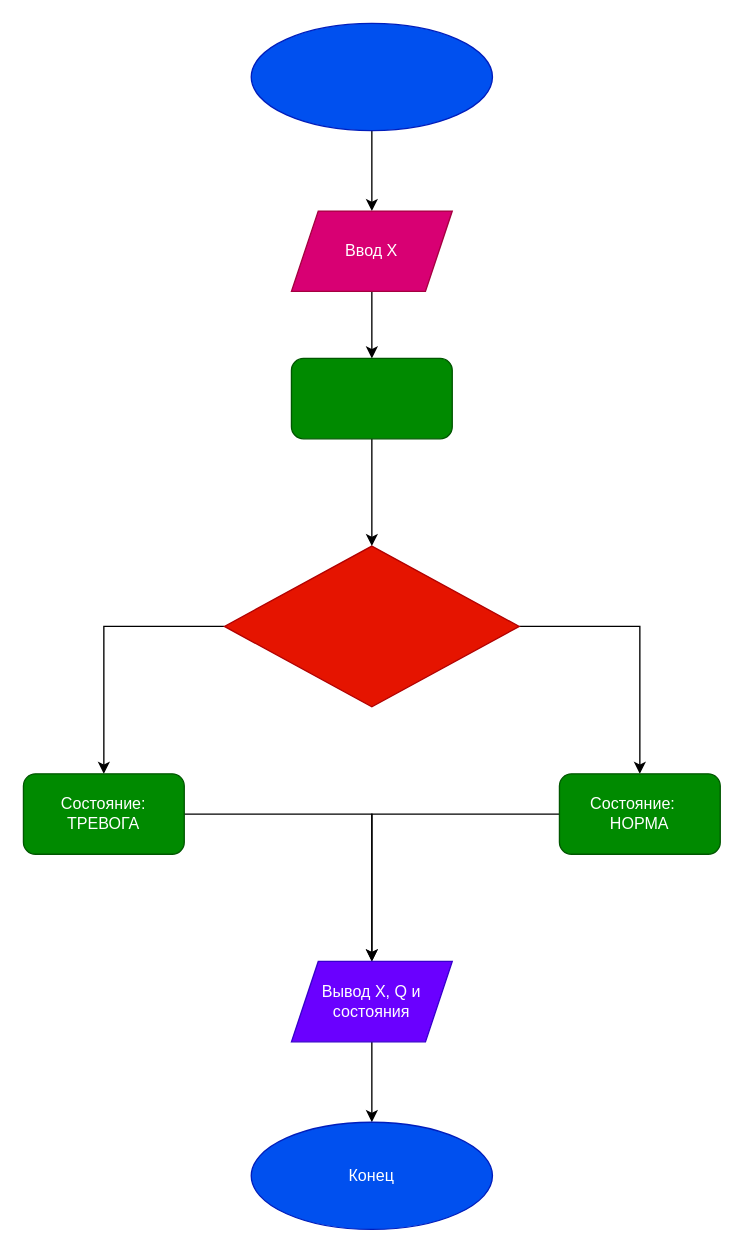
Some shapes in this 744 by 1253 pixel diagram are drawn without their labels. Each missing label, with the centre of its shape:
CONTROL: |Q - Q₀| > ΔQ ?: point 371,626
Q = compute_q(X): point 371,398
Начало: point 371,76
